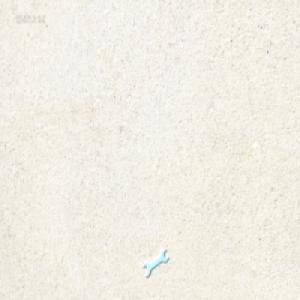Wrench: (140, 246, 164, 275)
